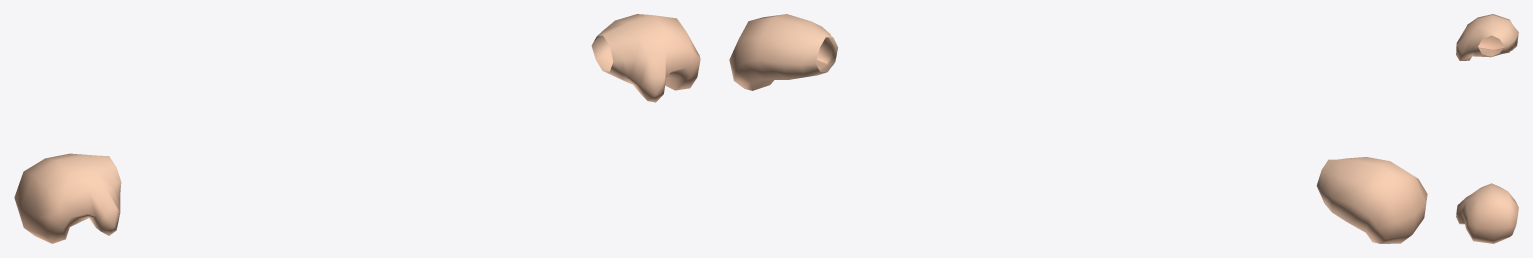
Rendered from Body_Hand.fbx.
The picture shows the model from 3 angles, left to right: view 1: azimuth 30°, elevation 25°; view 2: azimuth 150°, elevation 25°; view 3: azimuth 270°, elevation 25°; orthographic projection. The views are drawn at different scales.
Visible parts, largest first — view 1: Body_Hand; view 2: Body_Hand; view 3: Body_Hand.
Part boxes in pixels (bbox=[...]): Body_Hand: bbox=[14, 14, 700, 243]; Body_Hand: bbox=[729, 14, 1427, 243]; Body_Hand: bbox=[1456, 14, 1518, 243].
Size of the model in its own units: 130 by 13.15 by 17.22.
